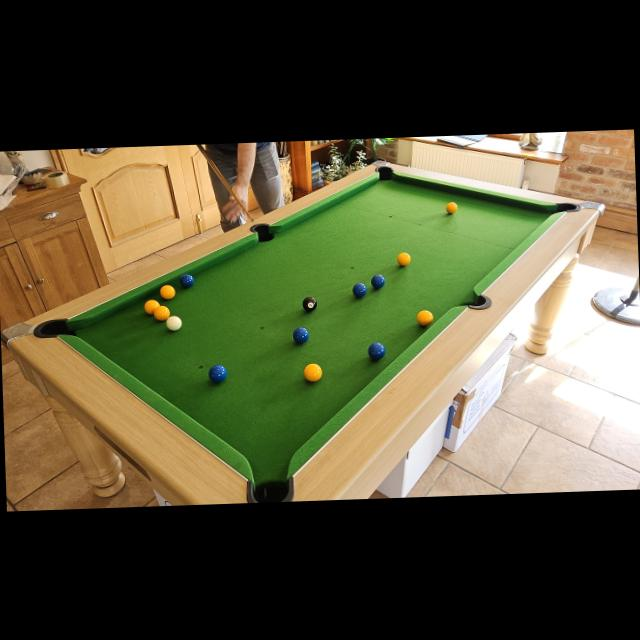Ball: (208, 364, 228, 383), (304, 363, 322, 382), (367, 342, 385, 360), (292, 326, 310, 343), (416, 310, 432, 328), (153, 304, 170, 320), (144, 299, 160, 315), (166, 315, 182, 331), (302, 296, 318, 312), (160, 284, 174, 299), (370, 274, 385, 288), (396, 252, 410, 266), (352, 282, 366, 296), (180, 272, 193, 286), (445, 202, 457, 214)
